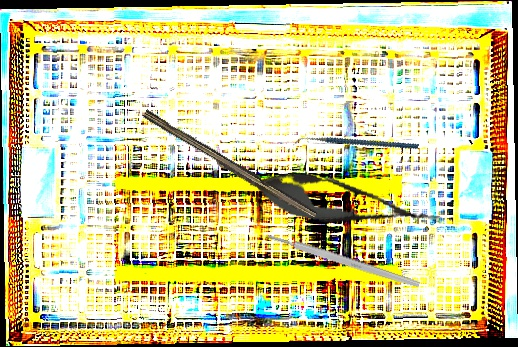Chopper: (292, 99, 420, 191)
Micro Scissor: (245, 162, 447, 244)
Scalpel Handle: (139, 109, 320, 222), (267, 231, 421, 290)
